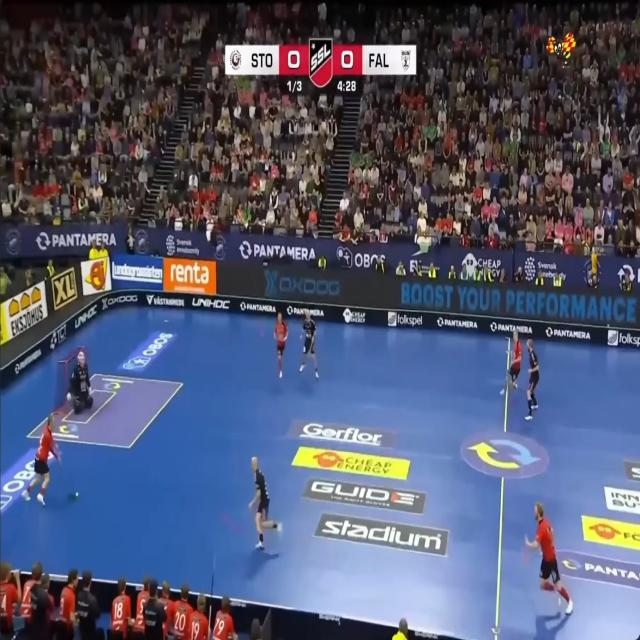Balls: (69, 491, 78, 499)
player: (525, 502, 572, 614), (23, 414, 60, 504), (248, 457, 282, 548), (67, 352, 93, 412), (110, 577, 131, 639), (501, 331, 521, 395), (300, 309, 318, 378), (525, 339, 539, 420), (212, 596, 237, 639), (274, 312, 288, 377)
